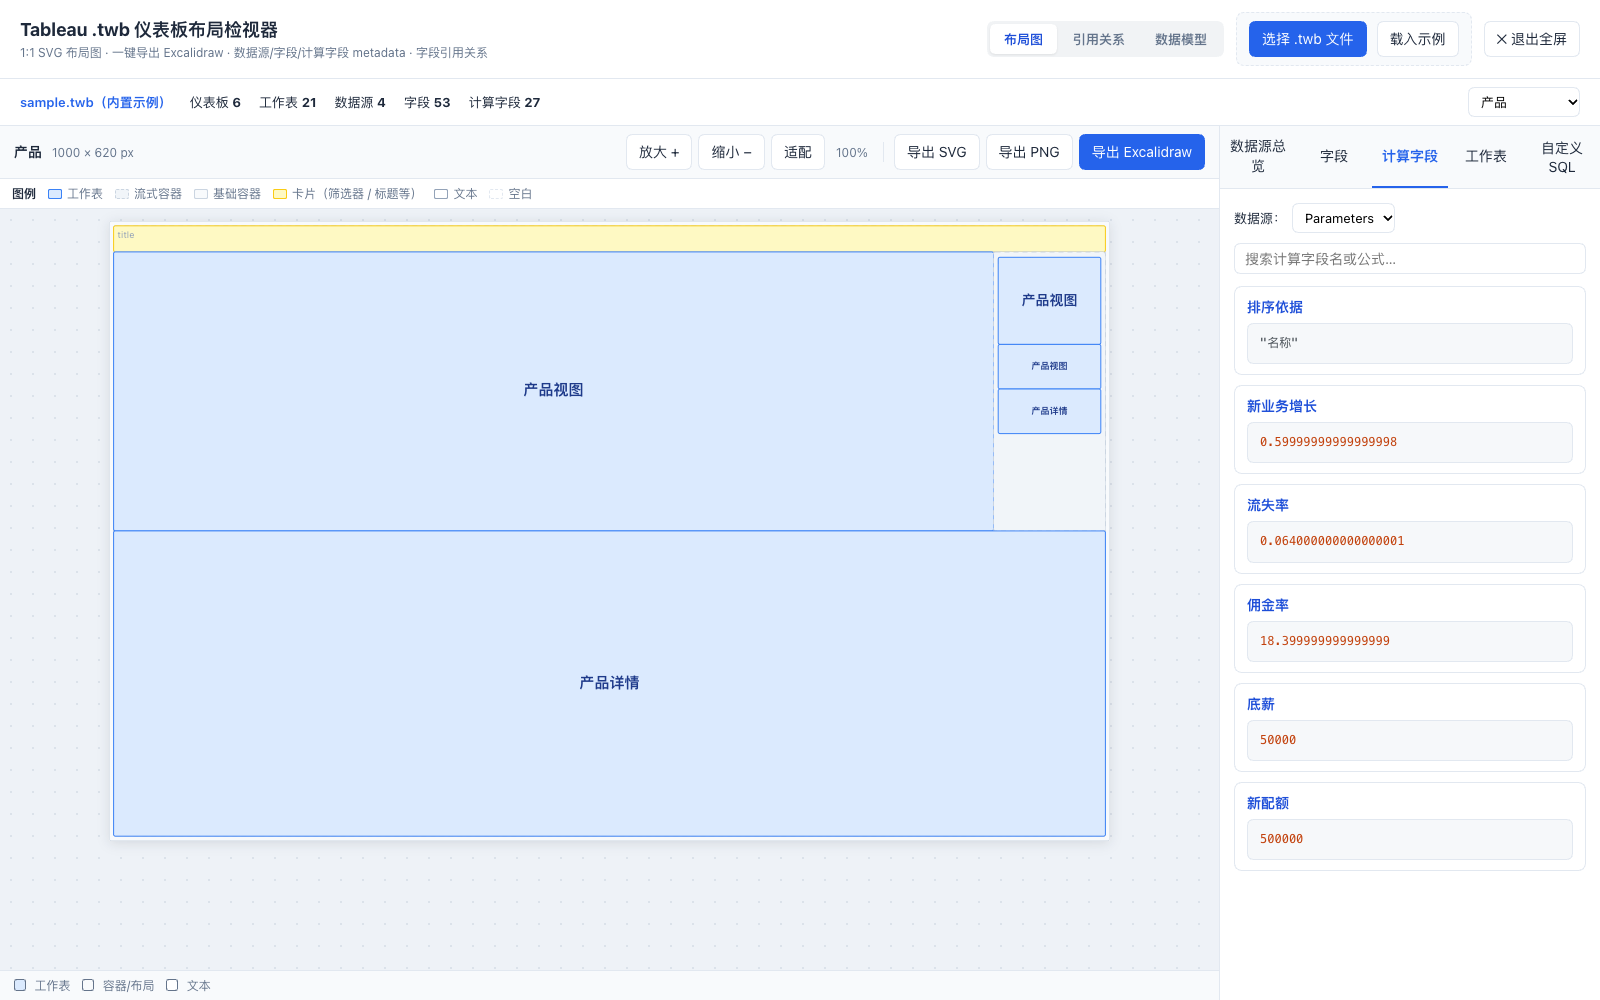

Layout of this report page (visuals, bound fields, positions):
{"tool":"tableau","page":{"name":"产品","canvas":[1000,1000],"units":"permille","ordinal":0},"visuals":[{"type":"title","box":[4.1,7.7,991.8,42]},{"type":"worksheet","title":"产品视图","mark":"Square","rows":["类别","订单日期"],"cols":["订单日期"],"box":[4.1,49.8,879.9,450]},{"type":"filter","title":"产品视图","param":"[federated.10nnk8d1vgmw8q17yu76u06pnbcj].[none:区域:nk]","box":[888.6,58.6,102.6,140.5]},{"type":"legend","title":"产品视图","param":"[federated.10nnk8d1vgmw8q17yu76u06pnbcj].[sum:销售额:qk]","box":[888.6,199.1,102.6,71.9]},{"type":"legend","title":"产品详情","param":"[federated.10nnk8d1vgmw8q17yu76u06pnbcj].[usr:Calculation_9921103144103743:qk]","box":[888.6,271,102.6,71.9]},{"type":"worksheet","title":"产品详情","mark":"Circle","rows":["类别","子类别"],"cols":["细分","销售额"],"box":[4.1,499.8,991.8,492.5]}]}

Visuals, with their boxes on the dashboard's canvas, which has no fixed pixel size, in thousandths of its width and height (x1, y1, x2, y2). These are canvas units, not pixel positions in the 1600x1000 screenshot, which may show the page scaled, cropped or inside an application window:
title: [4, 8, 996, 50]
"产品视图" worksheet (Square marks): [4, 50, 884, 500]
"产品视图" filter: [889, 59, 991, 199]
"产品视图" legend: [889, 199, 991, 271]
"产品详情" legend: [889, 271, 991, 343]
"产品详情" worksheet (Circle marks): [4, 500, 996, 992]
